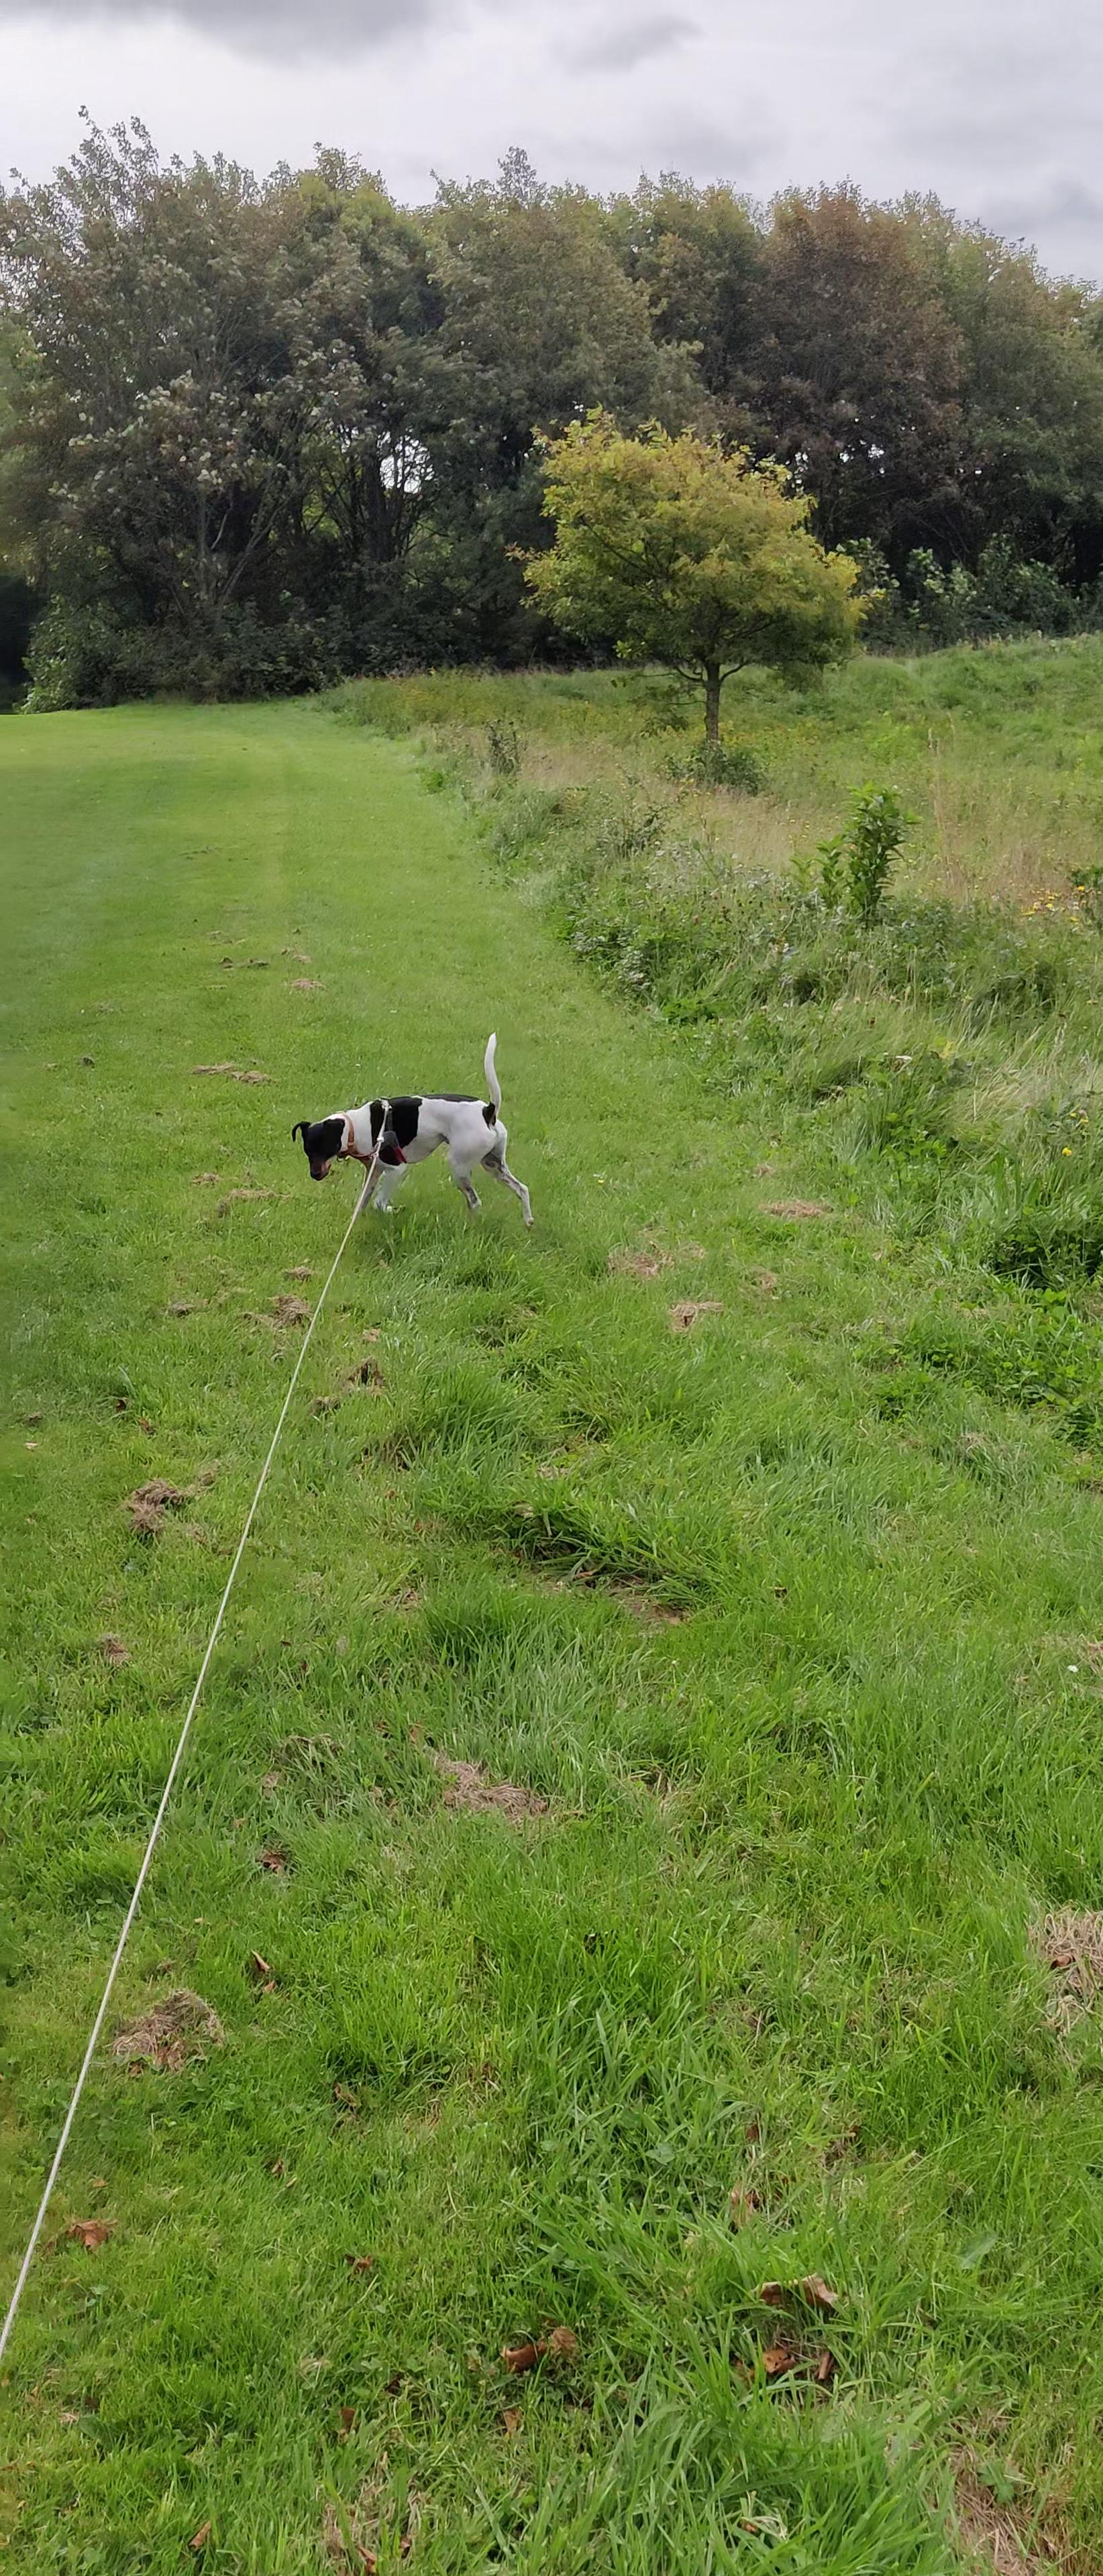Dog: (291, 1027, 536, 1232)
